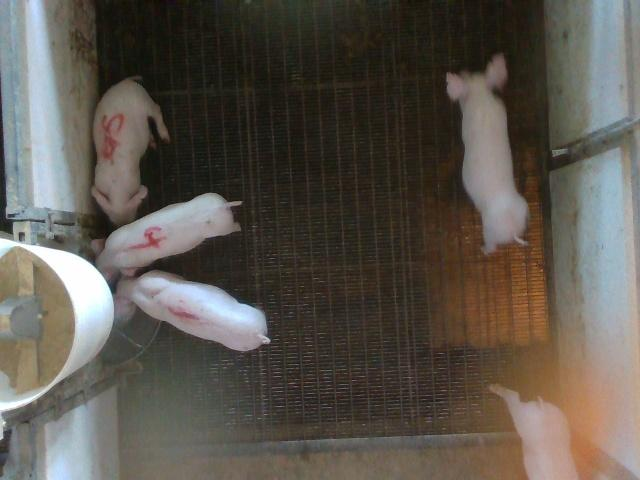pig-1: (118, 270, 270, 351)
pig-4: (96, 192, 241, 277)
pig-5: (91, 76, 170, 226)
